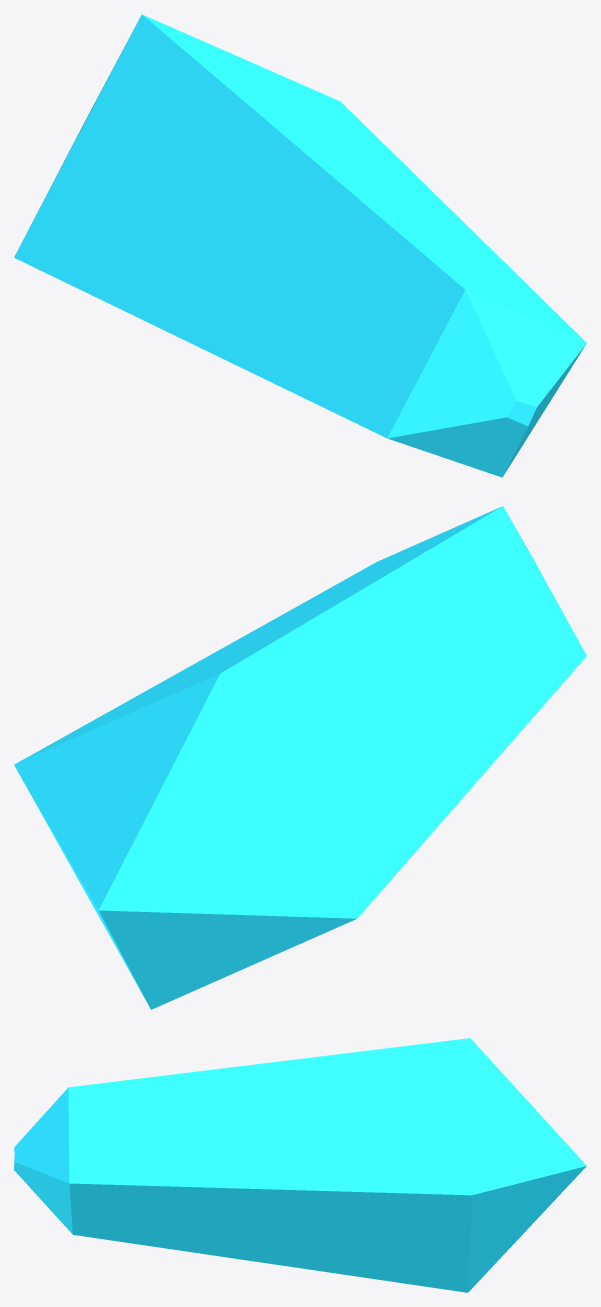
Rendered from Crystal.fbx.
The picture shows the model from 3 angles, top to bottom: view 1: azimuth 30°, elevation 25°; view 2: azimuth 150°, elevation 25°; view 3: azimuth 270°, elevation 25°; orthographic projection. The views are drawn at different scales.
Parts seen in each view (by area): view 1: Crystal; view 2: Crystal; view 3: Crystal.
Part boxes in pixels (x1,y1,x2,y2): Crystal: (14, 14, 586, 477); Crystal: (14, 506, 586, 1009); Crystal: (14, 1038, 586, 1292).
Size of the model in its own units: 138 by 138 by 310.
